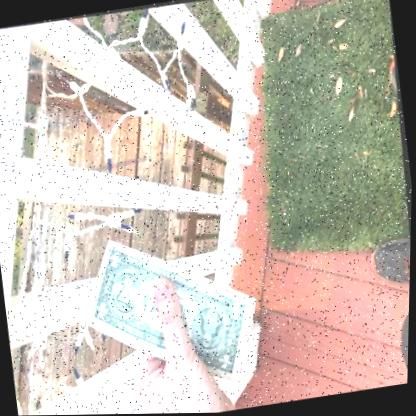dollar_back: (89, 238, 258, 381)
